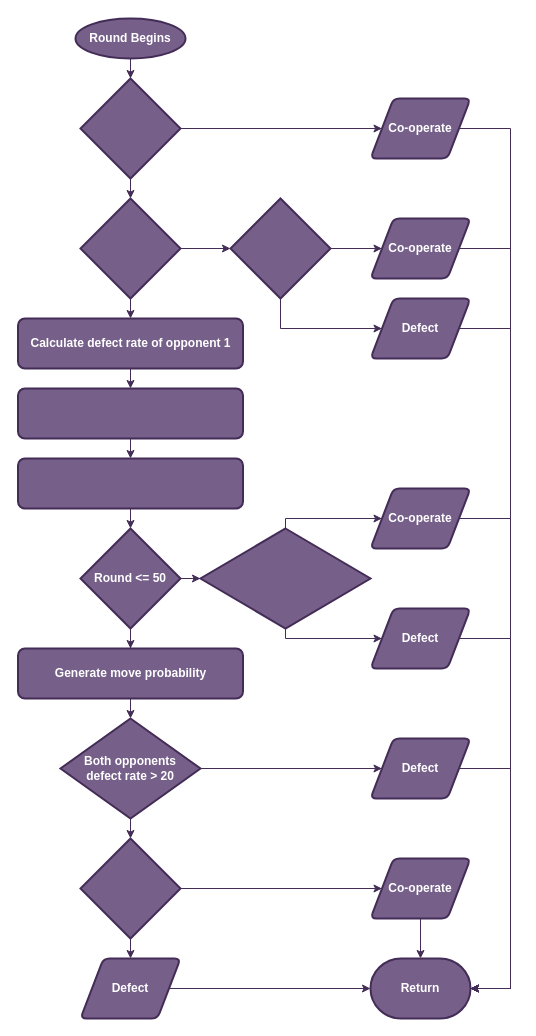
This 536x1036 diagram has some shape labels left out. Here are the shapes that lost their labels. From the top down, the centre of each, then its label:
the point at 130,128: Round 1?
the point at 130,248: Round <= 15
the point at 280,248: Both opponents co-operated
the point at 130,413: Calculate defect rate of opponent 2
the point at 130,483: Calculate acceptable defect rate
the point at 285,578: Both opponents defect rate < acceptable defect rate
the point at 130,888: move probability > 0.02
